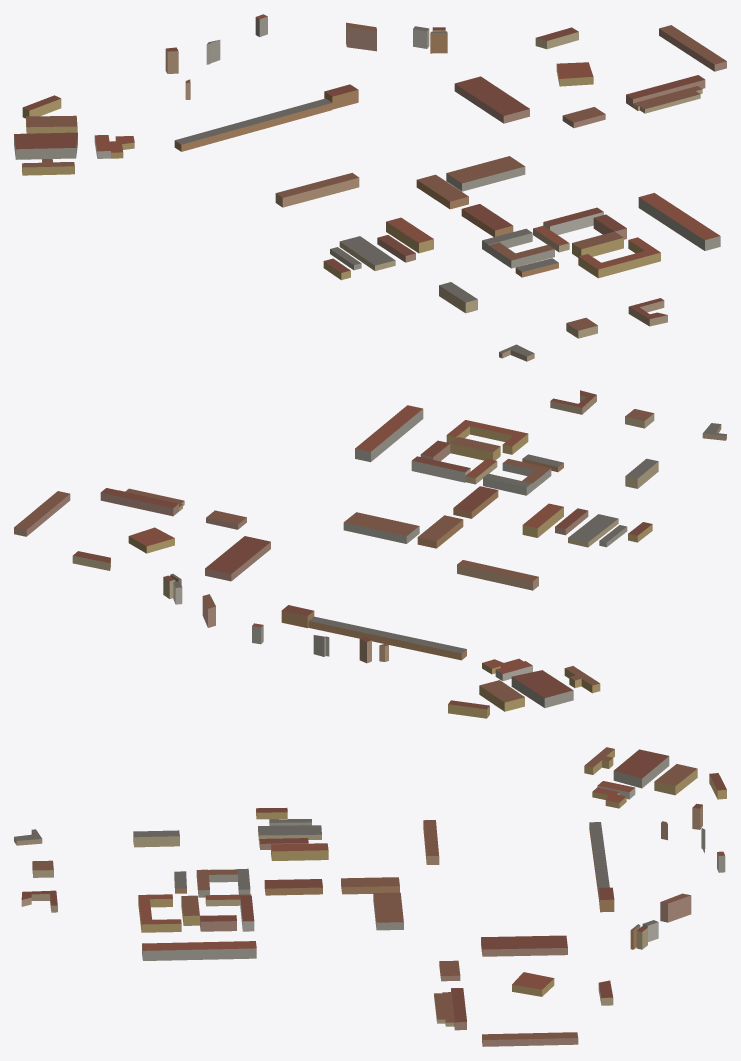
File: SM_Fondale_Citta_SO_01_LOD2.fbx
3 views of the same model, one above another, from view 1: azimuth 30°, elevation 25°; view 2: azimuth 150°, elevation 25°; view 3: azimuth 270°, elevation 25° (orthographic). The views are drawn at different scales.
Visible parts, largest first — view 1: SM_Fondale_Citta_SO_01_LOD2; view 2: SM_Fondale_Citta_SO_01_LOD2; view 3: SM_Fondale_Citta_SO_01_LOD2.
Boxes of the visible parts, left/top/right/bottom form: SM_Fondale_Citta_SO_01_LOD2: left=14, top=14, right=726, bottom=361; SM_Fondale_Citta_SO_01_LOD2: left=14, top=390, right=726, bottom=718; SM_Fondale_Citta_SO_01_LOD2: left=14, top=747, right=726, bottom=1046.
Bounding box in the file's own units: 101298 × 104538 × 7288.
